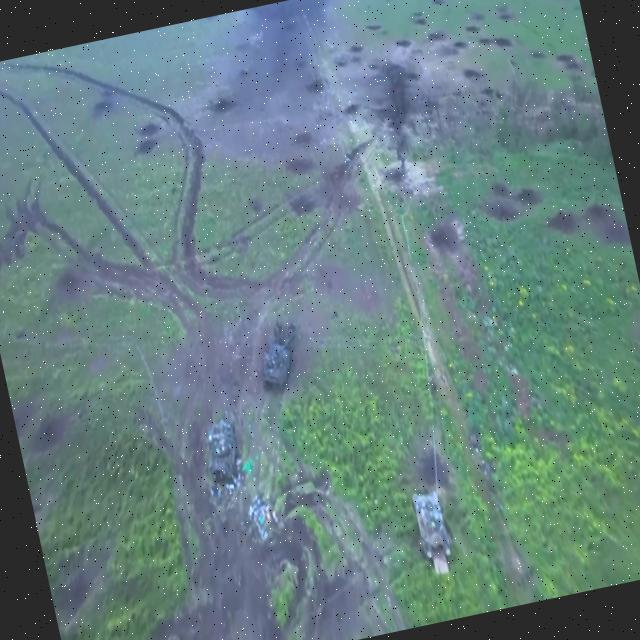AIFV: (411, 489, 458, 580), (200, 417, 246, 486)
MBT: (255, 330, 308, 392)
